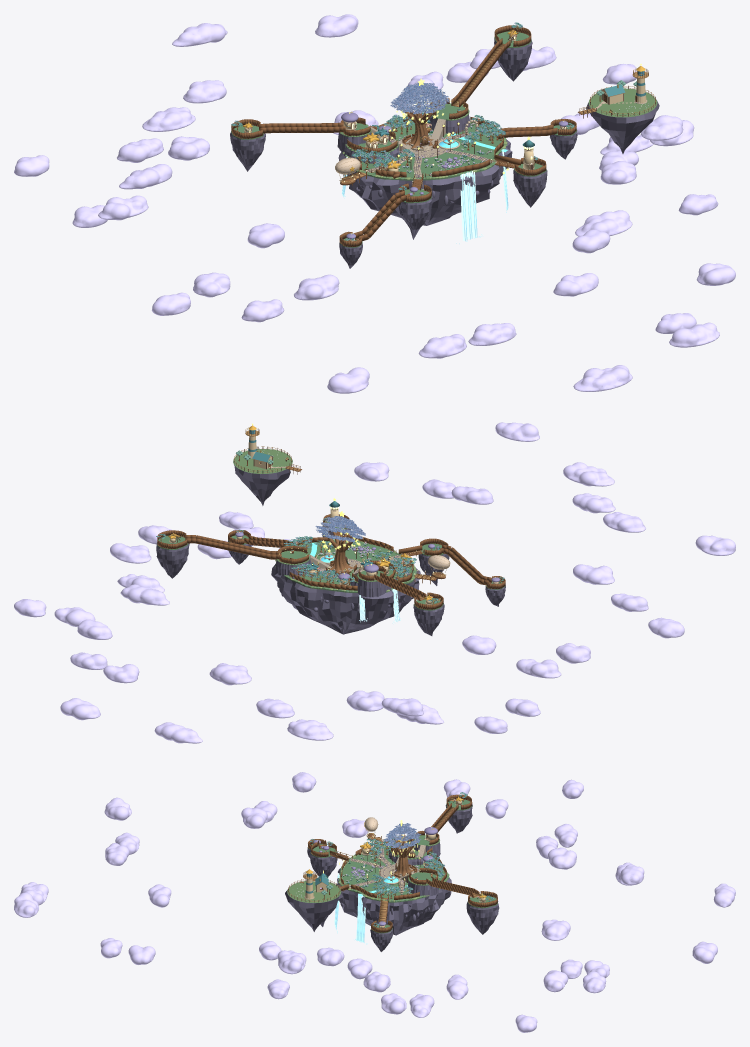
Rendered from island.glb.
The picture shows the model from 3 angles, top to bottom: view 1: azimuth 30°, elevation 25°; view 2: azimuth 150°, elevation 25°; view 3: azimuth 270°, elevation 25°; orthographic projection. The views are drawn at different scales.
Visible parts, largest first — view 1: Island_Main, Physics_Guards_wood, Physics_Bridge_wood, Islet_Keeper_rock, Canopy_V11_leaf_light, Islet_Keeper_top, Clouds_V11_15_cloud, Islet_2, Clouds_V11_18_cloud, Clouds_V11_27_cloud, Islet_0, Clouds_V11_02_cloud (+36 smaller); view 2: Island_Main, Physics_Guards_wood, Physics_Bridge_wood, Islet_Keeper_rock, Islet_2, Clouds_V11_15_cloud, Canopy_V11_leaf_light, Islet_Keeper_top, Clouds_V11_27_cloud, Clouds_V11_02_cloud, Clouds_V11_08_cloud, Clouds_V11_32_cloud (+23 smaller); view 3: Island_Main, Physics_Guards_wood, Islet_Keeper_rock, Physics_Bridge_wood, Islet_2, Canopy_V11_leaf_light, Islet_Keeper_top, Clouds_V11_18_cloud, Isle_L, Clouds_V11_14_cloud, Clouds_V11_32_cloud, Islet_0 (+11 smaller).
Part boxes in pixels (x1=…): Island_Main: x1=338, y1=120, x2=512, y2=225; Physics_Guards_wood: x1=231, y1=25, x2=576, y2=246; Physics_Bridge_wood: x1=259, y1=38, x2=557, y2=241; Islet_Keeper_rock: x1=586, y1=100, x2=659, y2=153; Canopy_V11_leaf_light: x1=231, y1=22, x2=574, y2=240; Islet_Keeper_top: x1=588, y1=88, x2=657, y2=117; Clouds_V11_15_cloud: x1=573, y1=365, x2=632, y2=391; Islet_2: x1=494, y1=31, x2=532, y2=81; Clouds_V11_18_cloud: x1=575, y1=210, x2=632, y2=236; Clouds_V11_27_cloud: x1=142, y1=107, x2=195, y2=131; Islet_0: x1=230, y1=125, x2=265, y2=171; Clouds_V11_02_cloud: x1=669, y1=322, x2=719, y2=347; Island_Main: x1=271, y1=540, x2=420, y2=634; Physics_Guards_wood: x1=157, y1=514, x2=505, y2=609; Physics_Bridge_wood: x1=185, y1=535, x2=491, y2=600; Islet_Keeper_rock: x1=233, y1=461, x2=292, y2=505; Islet_2: x1=156, y1=535, x2=189, y2=578; Clouds_V11_15_cloud: x1=563, y1=462, x2=614, y2=486; Canopy_V11_leaf_light: x1=157, y1=516, x2=504, y2=602; Islet_Keeper_top: x1=233, y1=449, x2=292, y2=473; Clouds_V11_27_cloud: x1=287, y1=719, x2=333, y2=740; Clouds_V11_02_cloud: x1=495, y1=422, x2=539, y2=441; Clouds_V11_08_cloud: x1=120, y1=584, x2=169, y2=605; Clouds_V11_32_cloud: x1=209, y1=663, x2=251, y2=685; Island_Main: x1=337, y1=846, x2=451, y2=935; Physics_Guards_wood: x1=308, y1=794, x2=497, y2=932; Islet_Keeper_rock: x1=285, y1=890, x2=342, y2=931; Physics_Bridge_wood: x1=317, y1=803, x2=479, y2=924; Islet_2: x1=466, y1=896, x2=499, y2=934; Canopy_V11_leaf_light: x1=310, y1=792, x2=493, y2=926; Islet_Keeper_top: x1=287, y1=881, x2=341, y2=902; Clouds_V11_18_cloud: x1=277, y1=950, x2=306, y2=974; Isle_L: x1=310, y1=846, x2=337, y2=876; Clouds_V11_14_cloud: x1=548, y1=847, x2=576, y2=869; Clouds_V11_32_cloud: x1=541, y1=919, x2=570, y2=940; Islet_0: x1=445, y1=799, x2=472, y2=833.
Size of the model in its own units: 193 by 48.27 by 244.
